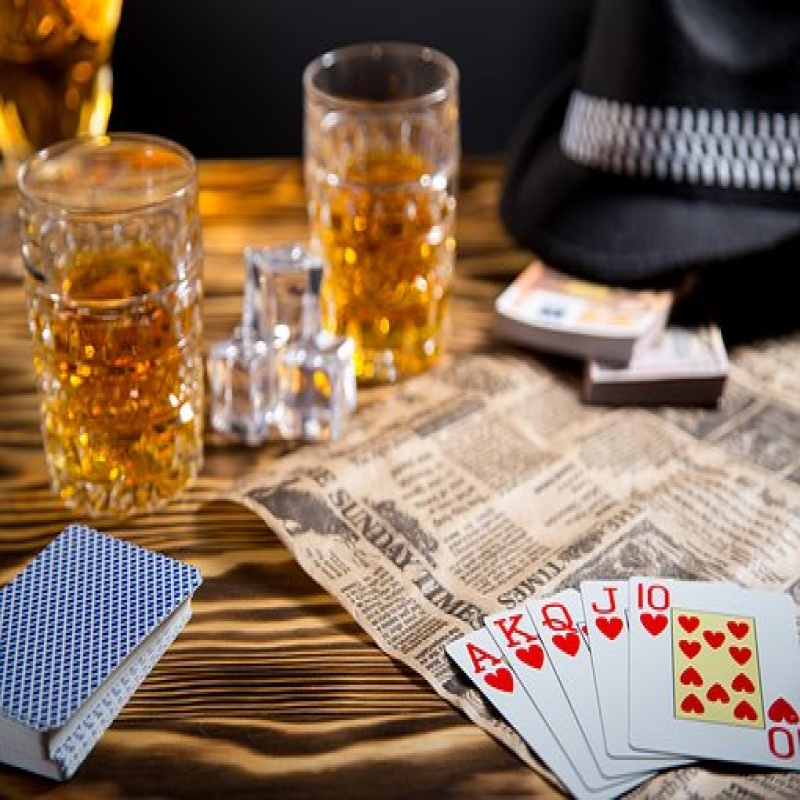whiskey: (28, 132, 208, 510), (308, 50, 471, 389)
